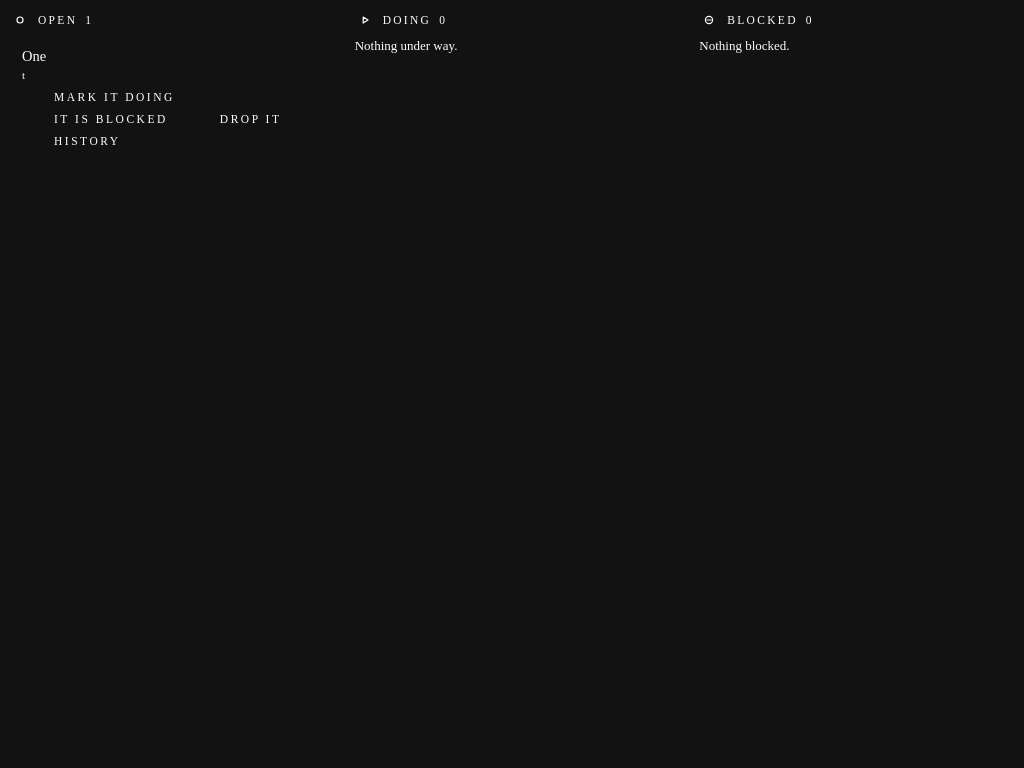
Scenario: One task in full › reads a one-list board s task on that list
Click the button "History".
click(73, 141)  # box [22, 131, 125, 151]
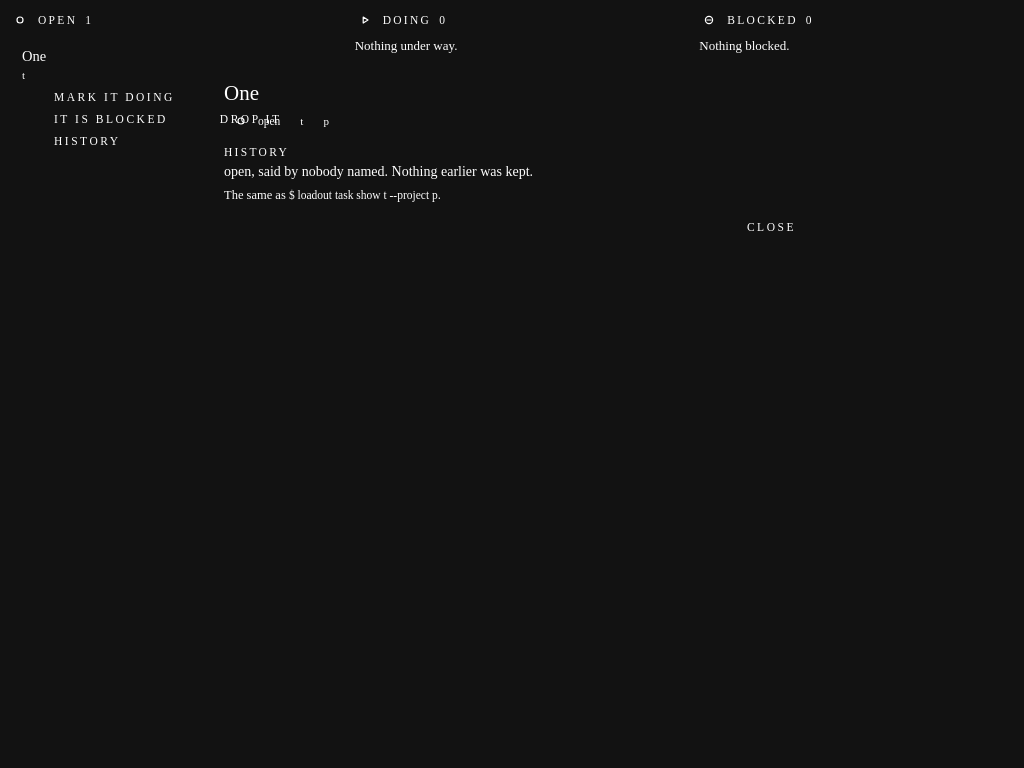
Expected: the dialog is shown, [224, 80, 800, 237]
